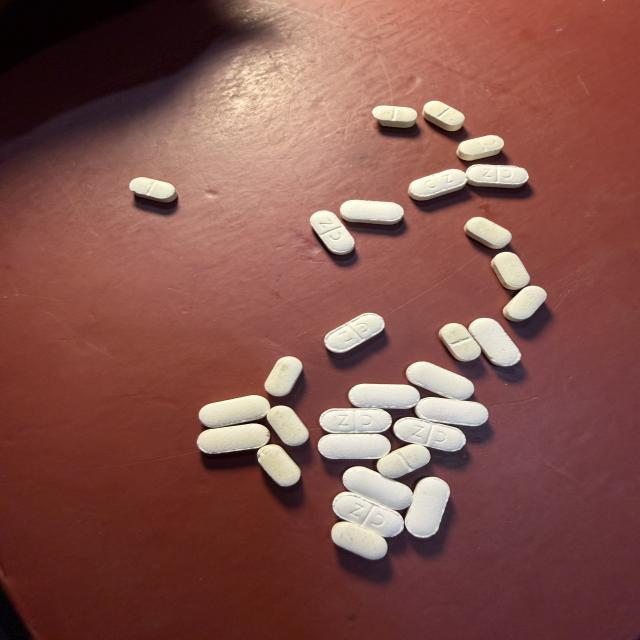pill: (333, 492, 403, 537), (343, 467, 412, 509), (406, 477, 449, 537), (469, 318, 521, 367), (406, 362, 474, 399), (394, 417, 466, 451), (324, 313, 384, 353), (199, 395, 269, 427), (197, 424, 270, 453), (415, 398, 488, 426), (332, 522, 387, 559), (310, 211, 354, 254), (377, 444, 430, 478), (318, 434, 390, 459), (320, 408, 391, 433), (409, 169, 466, 200), (257, 445, 300, 486), (349, 384, 419, 408), (267, 406, 308, 445), (439, 323, 480, 361), (340, 200, 403, 224), (491, 252, 530, 290), (504, 286, 546, 321), (464, 217, 511, 248), (265, 357, 302, 396), (466, 165, 528, 187), (423, 101, 464, 131), (130, 177, 177, 202), (457, 135, 503, 160), (372, 106, 417, 127)
